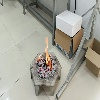fire: (45, 37, 52, 68), (37, 54, 41, 61)
